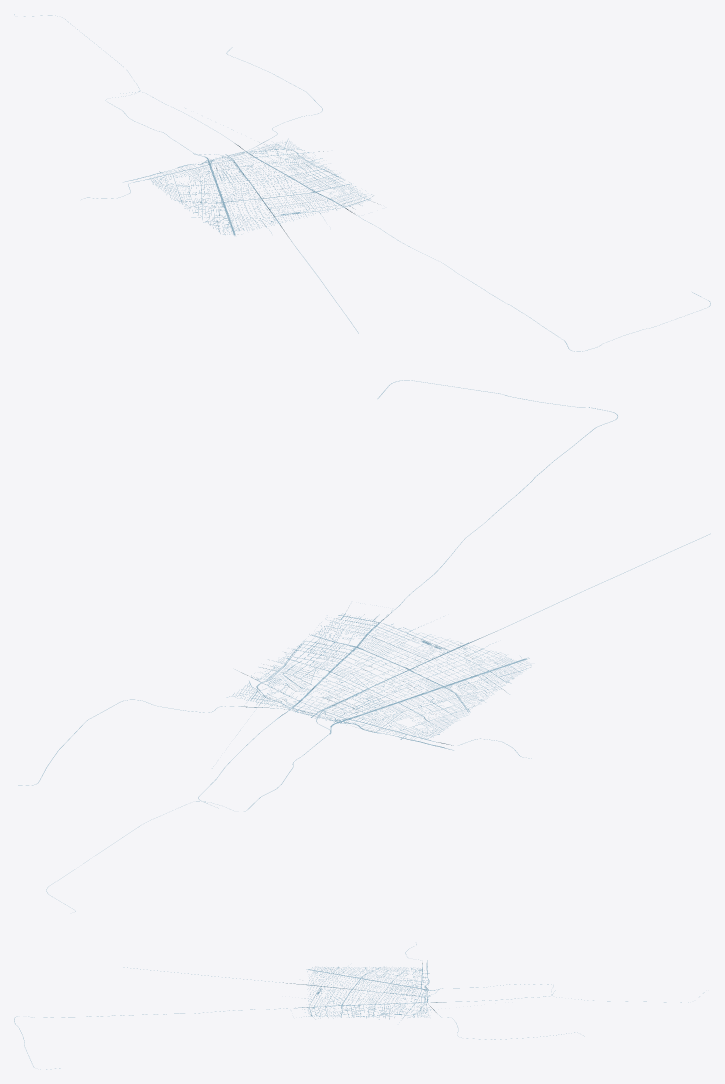
File: roads.glb
3 views of the same model, one above another, from view 1: azimuth 30°, elevation 25°; view 2: azimuth 150°, elevation 25°; view 3: azimuth 270°, elevation 25° (orthographic). The views are drawn at different scales.
Visible parts, largest first — view 1: roads; view 2: roads; view 3: roads.
Boxes of the visible parts, <box> form: roads: <box>14,14,710,351</box>; roads: <box>18,380,710,911</box>; roads: <box>14,944,704,1069</box>.
Size of the model in its own units: 11931 by 67.02 by 27451.
